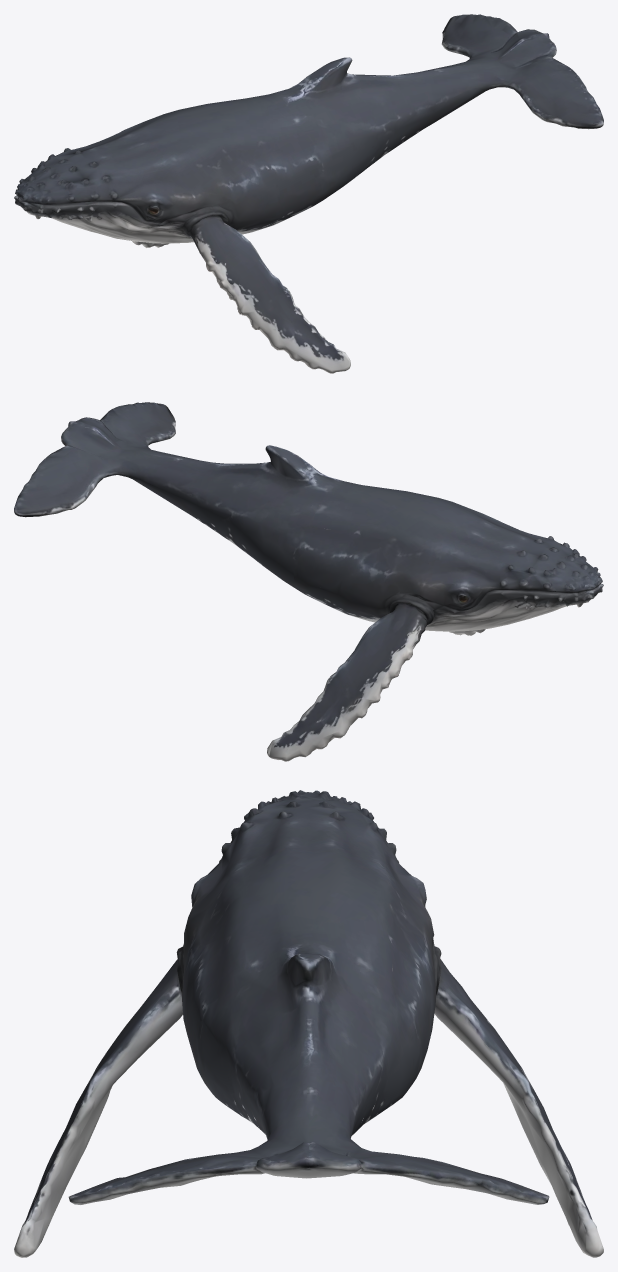
Rendered from fauna-kit.glb.
3 renders of one model, top to bottom at view 1: azimuth 30°, elevation 25°; view 2: azimuth 150°, elevation 25°; view 3: azimuth 270°, elevation 25°, orthographic. The views are drawn at different scales.
Parts seen in each view (by area): view 1: tripo_node_3de1c6e4-5801-4297-b42d-516d512d233c; view 2: tripo_node_3de1c6e4-5801-4297-b42d-516d512d233c; view 3: tripo_node_3de1c6e4-5801-4297-b42d-516d512d233c.
Part boxes in pixels (box(x1,y1,x2,y2)): tripo_node_3de1c6e4-5801-4297-b42d-516d512d233c: box(14, 14, 603, 373); tripo_node_3de1c6e4-5801-4297-b42d-516d512d233c: box(14, 402, 603, 761); tripo_node_3de1c6e4-5801-4297-b42d-516d512d233c: box(14, 790, 603, 1257).
Bounding box in the file's own units: 1 × 0.41 × 0.5933.
Materials: 1 (1 with a texture image).
